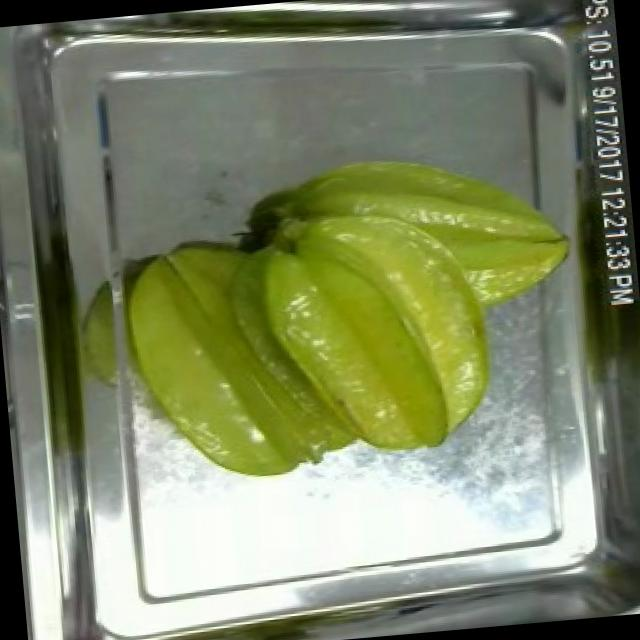fruit: (223, 121, 592, 478), (108, 218, 334, 497)
